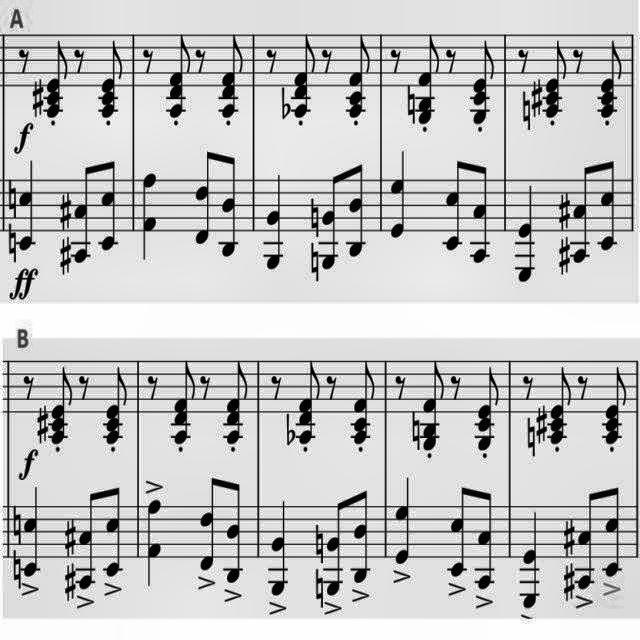Bemol: (284, 410, 296, 450), (280, 84, 292, 120)
Diez: (57, 188, 75, 232), (558, 188, 574, 236), (58, 232, 74, 276), (60, 516, 76, 560), (32, 76, 48, 116), (36, 404, 52, 444), (562, 560, 576, 604), (62, 563, 78, 601), (534, 403, 548, 445), (530, 78, 544, 118), (558, 236, 570, 274), (564, 520, 576, 556)
Eighth-note: (326, 494, 354, 598), (321, 164, 347, 274), (572, 162, 600, 264), (73, 158, 99, 266), (78, 487, 105, 591), (194, 148, 222, 248), (200, 474, 228, 572), (577, 488, 603, 592), (444, 157, 472, 251), (449, 484, 477, 578), (466, 158, 490, 266), (220, 478, 244, 586), (470, 36, 498, 128), (473, 366, 502, 454), (422, 356, 448, 452), (224, 359, 252, 448), (217, 150, 239, 260), (219, 30, 245, 121), (342, 161, 366, 259), (594, 159, 618, 257), (416, 30, 440, 126), (171, 360, 197, 446), (598, 488, 622, 580), (598, 36, 624, 120), (103, 363, 131, 441), (49, 364, 75, 448), (97, 157, 119, 255), (348, 31, 372, 120), (474, 486, 494, 592), (349, 488, 371, 584), (100, 484, 122, 580), (298, 359, 322, 446), (352, 361, 376, 447), (46, 37, 70, 121), (544, 36, 568, 120), (604, 364, 628, 448), (294, 30, 316, 121), (548, 365, 572, 447), (169, 31, 191, 120), (101, 39, 122, 121)
Eighth-rest: (76, 372, 92, 408), (140, 46, 156, 80), (16, 46, 32, 78), (388, 46, 404, 78), (392, 372, 408, 404), (520, 372, 536, 402), (572, 47, 586, 81), (444, 44, 458, 76), (21, 374, 37, 402), (325, 375, 339, 407), (263, 48, 277, 78), (577, 373, 591, 403), (269, 372, 283, 401), (72, 46, 84, 78), (518, 46, 530, 78), (146, 372, 158, 404), (321, 49, 335, 75), (450, 372, 462, 402), (194, 46, 206, 74), (200, 375, 212, 401)
Quarter-note: (514, 178, 534, 284), (269, 497, 289, 599), (144, 494, 164, 590), (393, 474, 411, 568), (22, 485, 40, 579), (524, 508, 540, 612), (389, 148, 407, 240), (268, 174, 284, 272), (18, 158, 34, 254), (142, 170, 158, 266)
